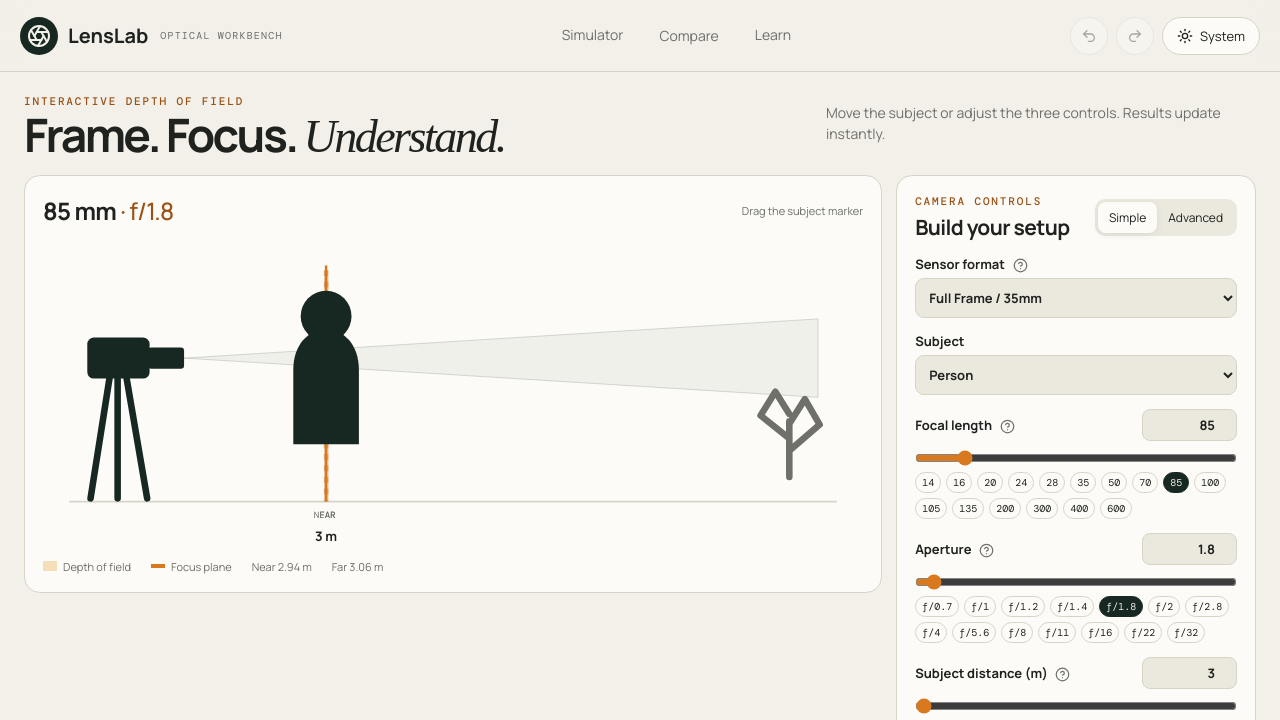
Test case: App › keeps scene drag and distance control synchronized
The width and height of the screenshot is (1280, 720).
Set the slider named "Subject distance slider" to "6": (925, 706) left=915, top=698, right=1237, bottom=714
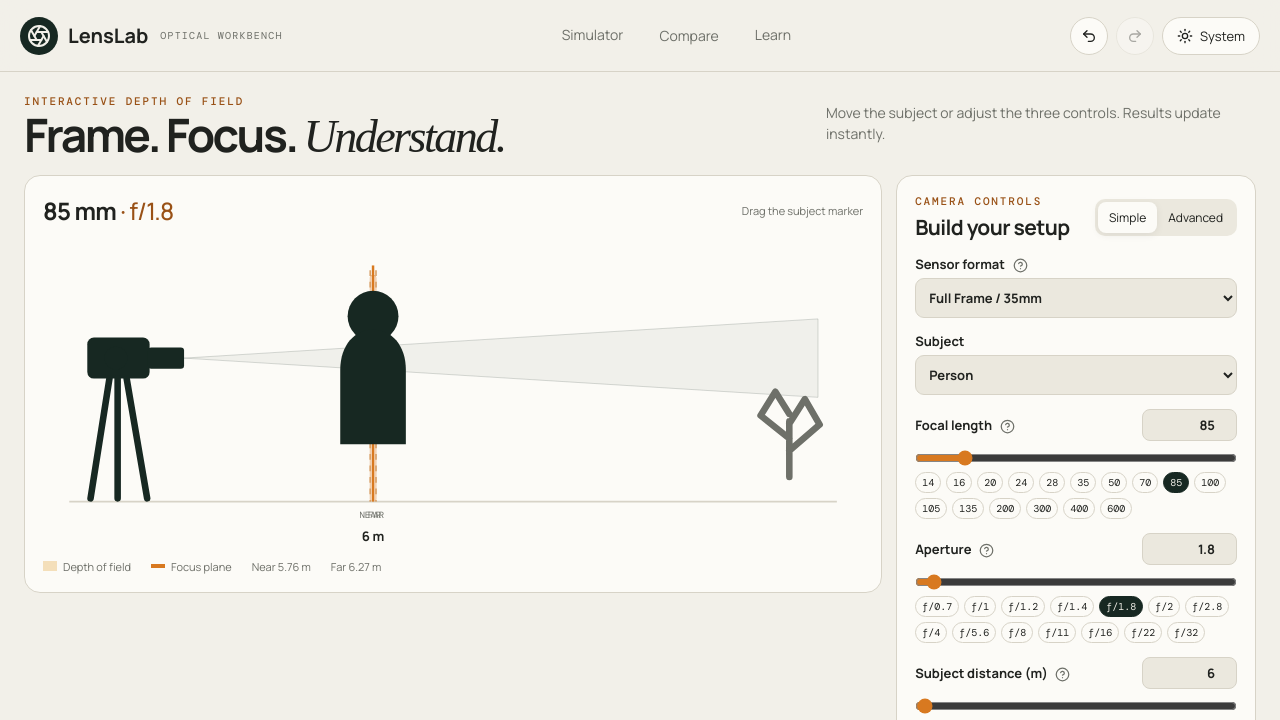
expect the number field named "Subject distance numeric value" holds "6": met, box left=1142, top=657, right=1237, bottom=689
expect the picture named "focused at 6 m" is shown: met, box left=43, top=231, right=863, bottom=559
